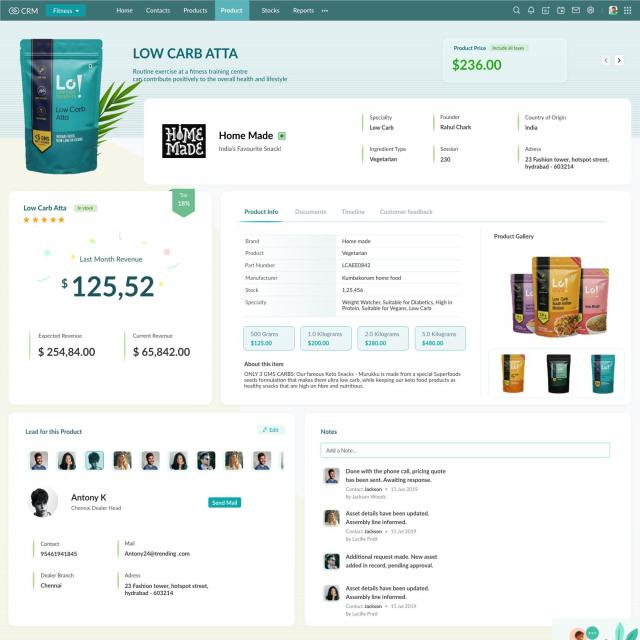button: (208, 496, 242, 509)
input: (321, 442, 610, 458)
